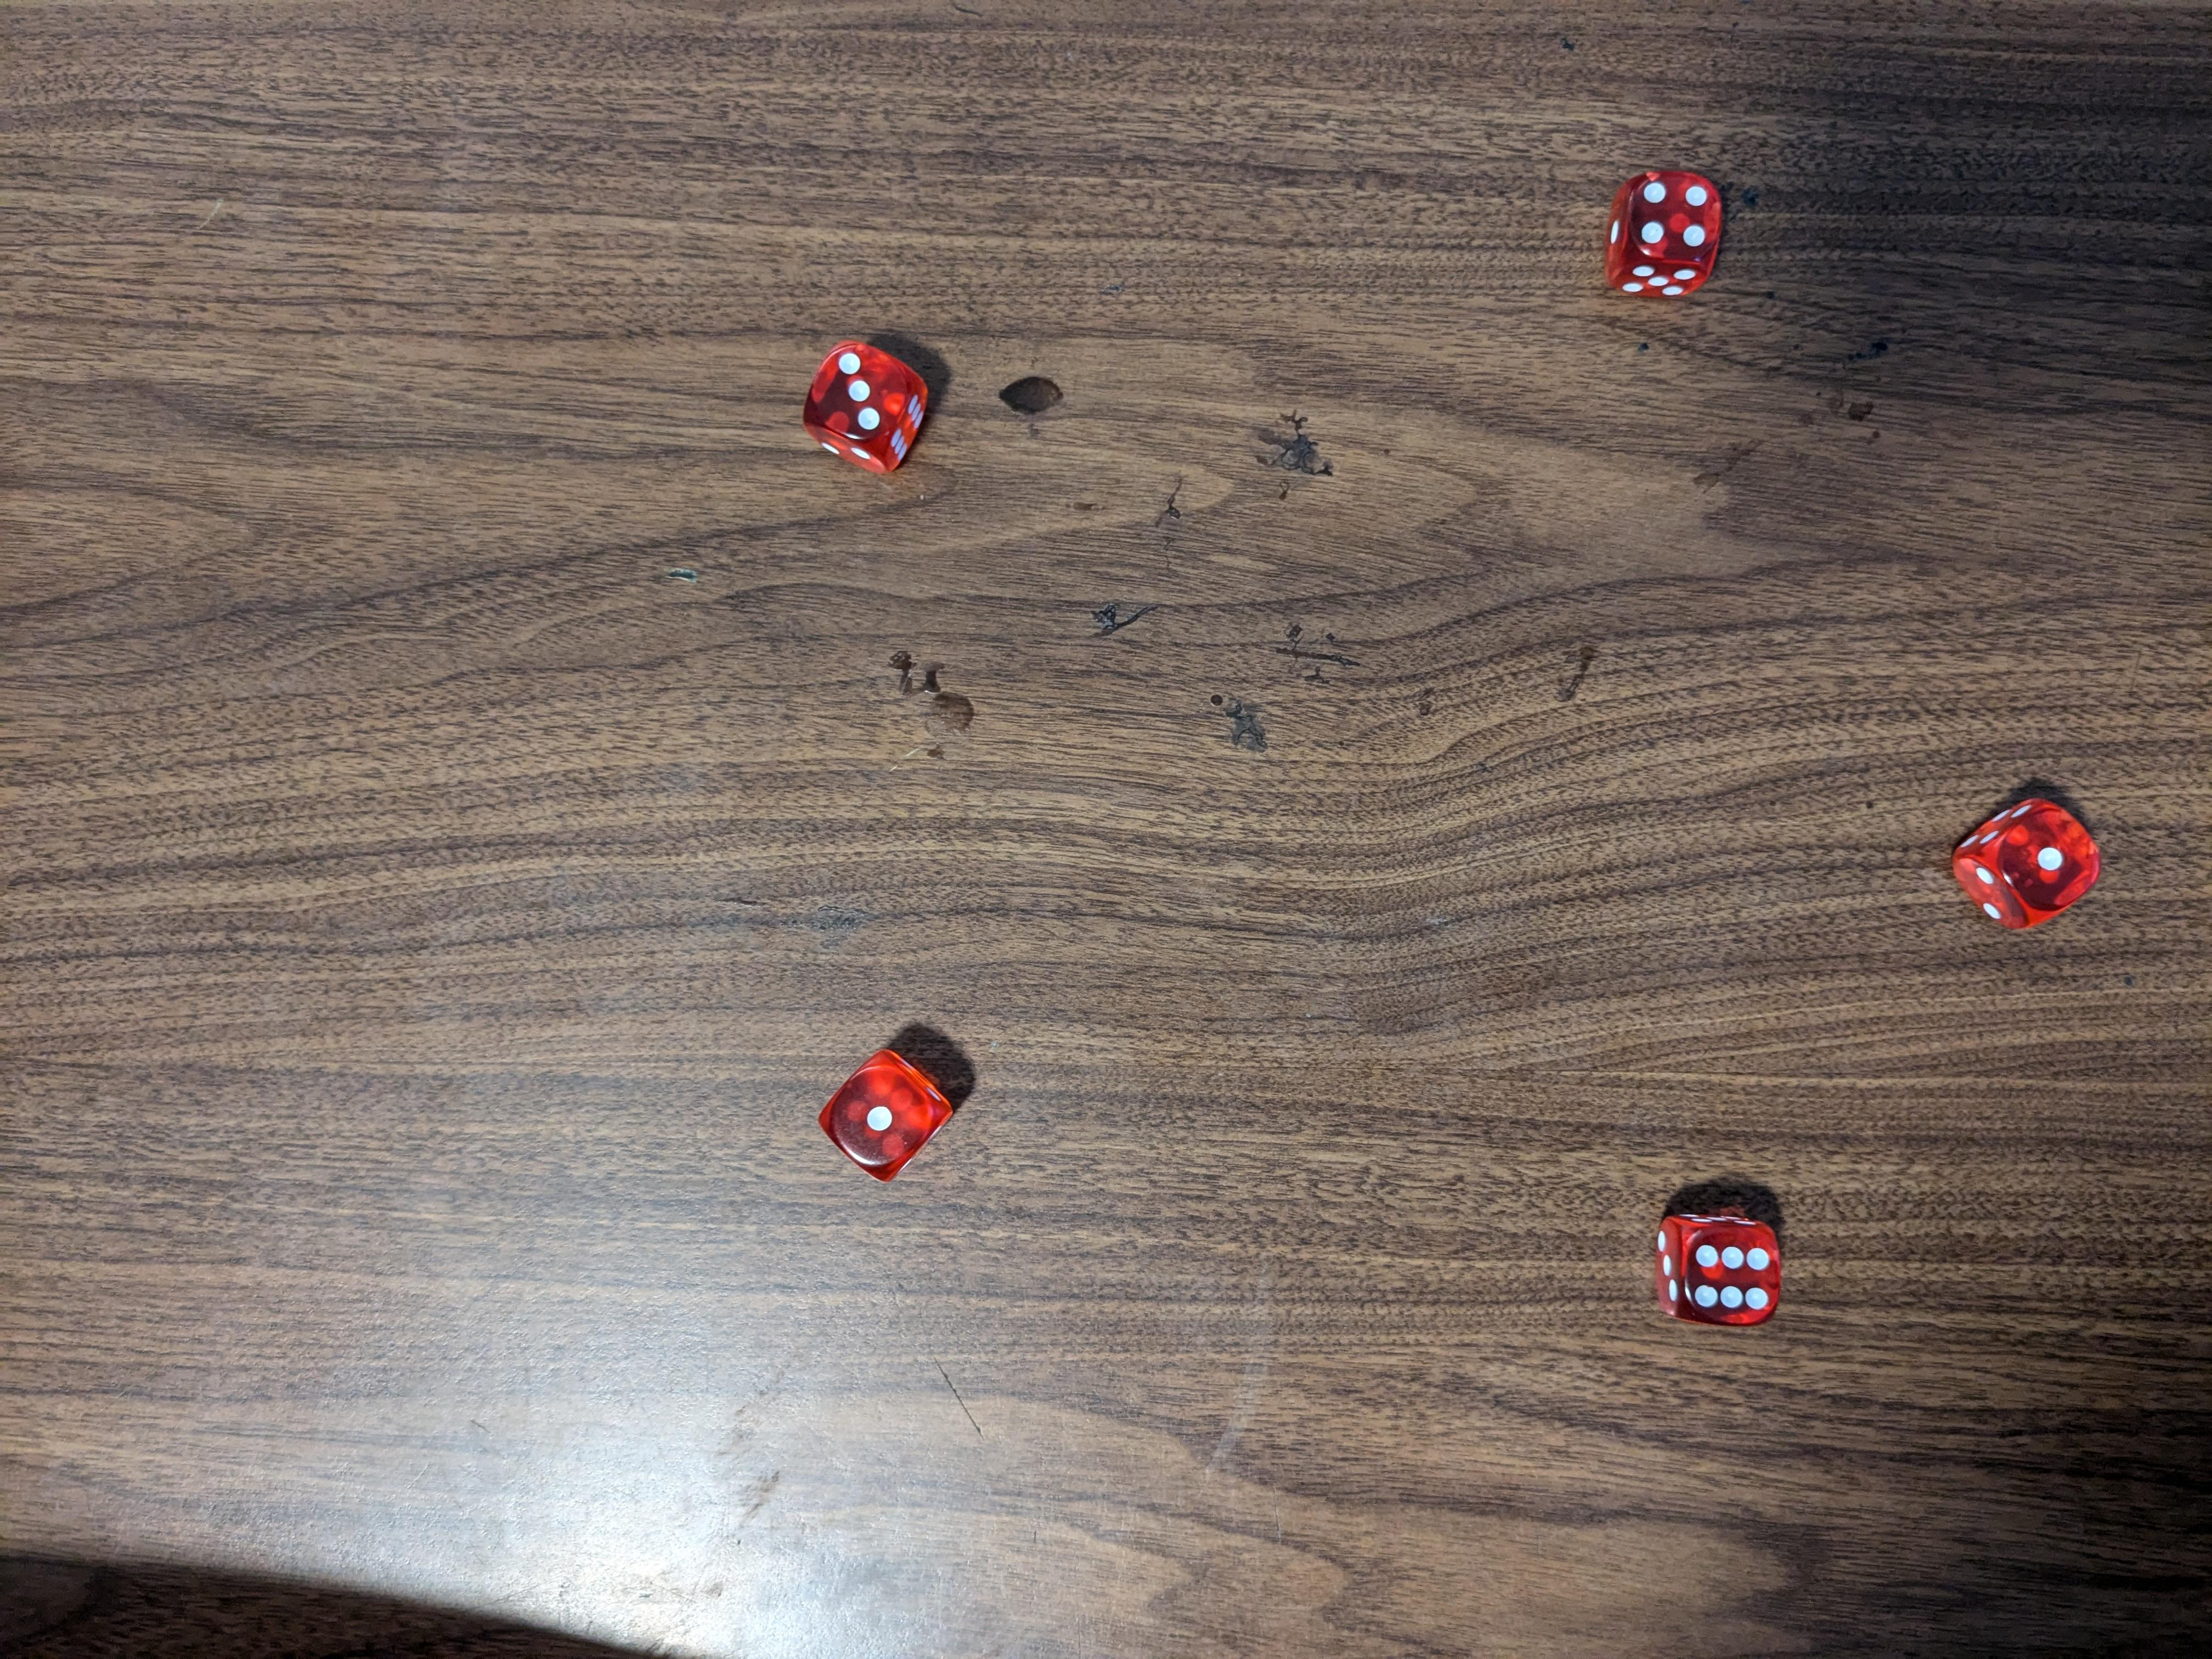four: (1604, 167, 1728, 296)
one: (1958, 796, 2101, 934), (815, 1049, 951, 1180)
six: (1653, 1213, 1782, 1330)
three: (805, 338, 937, 467)
